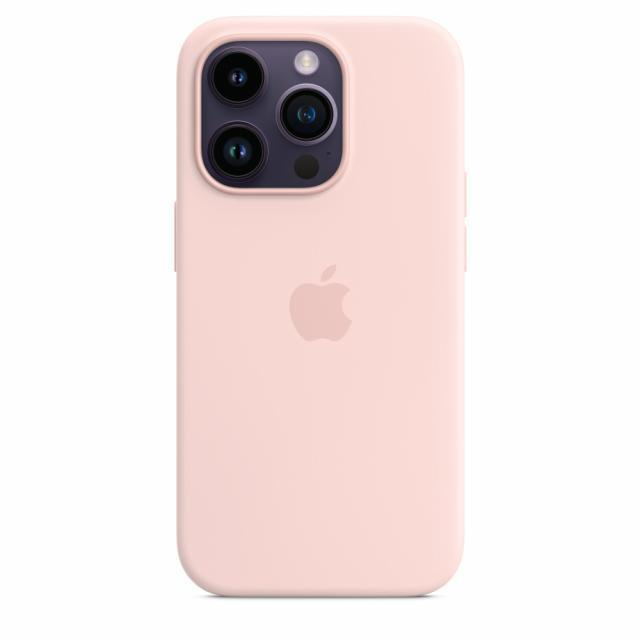phone: (174, 13, 469, 600)
